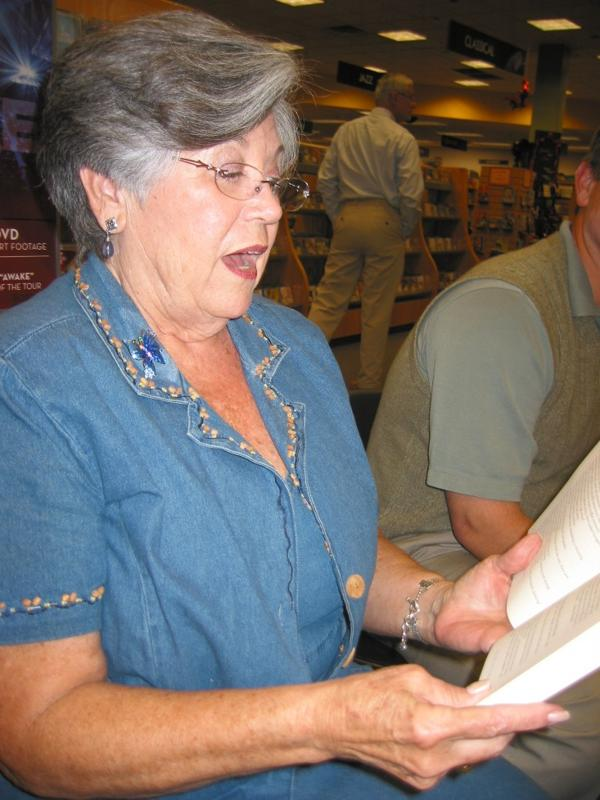person: (1, 13, 571, 799)
